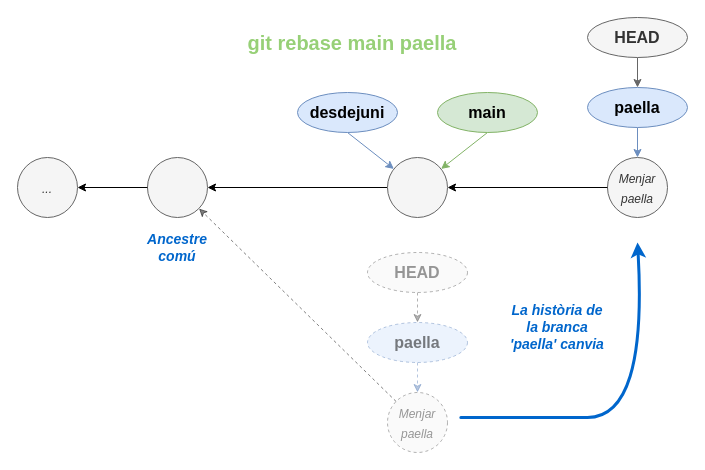
The diagram is 705 pixels wide and 470 high, and some of its shapes have lost their labels. Each missing label, with the centre of its shape:
"Beguda desdejuni" belongs at (417,187).
"Merge commit" belongs at (177,187).
